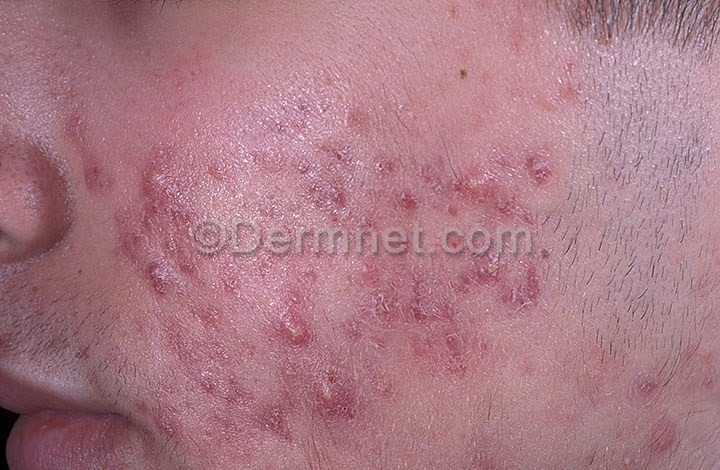Acne: (64, 90, 542, 437)
